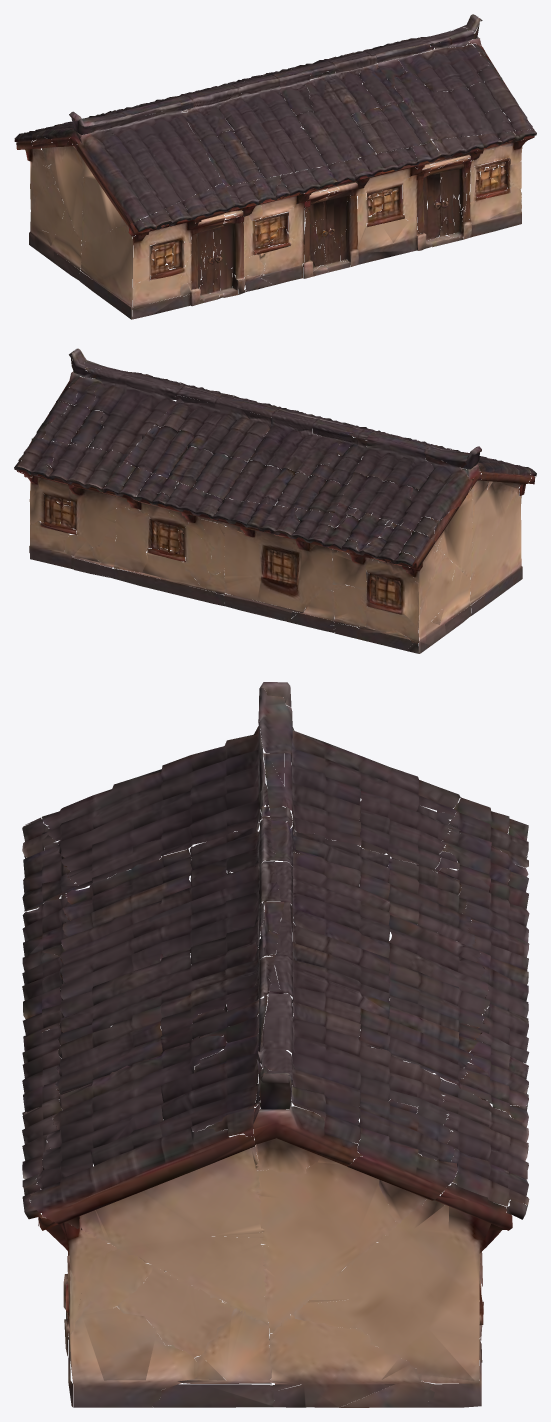
File: house_f_20k.glb
The picture shows the model from 3 angles, top to bottom: view 1: azimuth 30°, elevation 25°; view 2: azimuth 150°, elevation 25°; view 3: azimuth 270°, elevation 25°; orthographic projection. The views are drawn at different scales.
Parts seen in each view (by area): view 1: tripo_node_0c058430-95c4-4d92-8e21-e1bcd6f2bd68; view 2: tripo_node_0c058430-95c4-4d92-8e21-e1bcd6f2bd68; view 3: tripo_node_0c058430-95c4-4d92-8e21-e1bcd6f2bd68.
Part boxes in pixels (x1,y1,x2,y2): tripo_node_0c058430-95c4-4d92-8e21-e1bcd6f2bd68: (14,14,536,319); tripo_node_0c058430-95c4-4d92-8e21-e1bcd6f2bd68: (14,348,536,653); tripo_node_0c058430-95c4-4d92-8e21-e1bcd6f2bd68: (22,682,529,1407).
Size of the model in its own units: 0.9802 by 0.3919 by 0.5284.
Materials: 1 (1 with a texture image).
